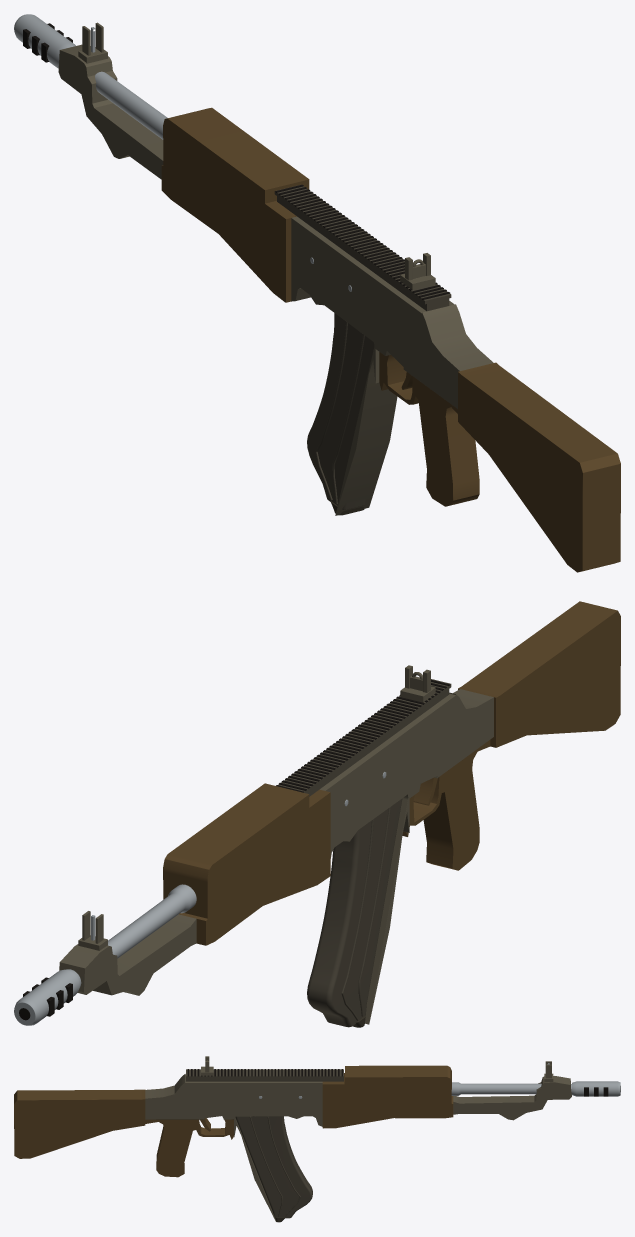
The model's file is ar-coalface.glb.
The picture shows the model from 3 angles, top to bottom: view 1: azimuth 30°, elevation 25°; view 2: azimuth 150°, elevation 25°; view 3: azimuth 270°, elevation 25°; orthographic projection. The views are drawn at different scales.
Parts seen in each view (by area): view 1: AN_Body, AN_Mag, AN_Hider, AN_IronRear, AN_IronFront; view 2: AN_Body, AN_Mag, AN_Hider, AN_IronRear, AN_IronFront; view 3: AN_Body, AN_Mag, AN_Hider.
Boxes of the visible parts, x1,y1,x2,y2 form: AN_Body: [58, 44, 620, 572]; AN_Mag: [307, 313, 374, 515]; AN_Hider: [14, 14, 75, 68]; AN_IronRear: [400, 253, 435, 290]; AN_IronFront: [78, 22, 107, 63]; AN_Body: [59, 601, 620, 1024]; AN_Mag: [307, 799, 402, 1027]; AN_Hider: [14, 969, 81, 1025]; AN_IronRear: [400, 665, 435, 702]; AN_IronFront: [78, 911, 107, 950]; AN_Body: [14, 1065, 571, 1221]; AN_Mag: [235, 1116, 312, 1222]; AN_Hider: [572, 1081, 620, 1096].
Bounding box in the file's own units: 0.042 × 0.2741 × 0.9435.
